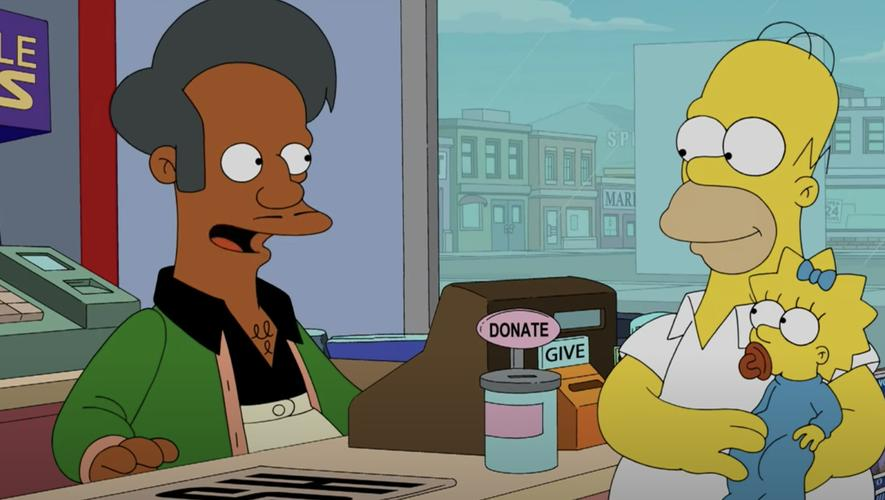Homer: (657, 17, 859, 290)
Maggie: (724, 246, 865, 491)
